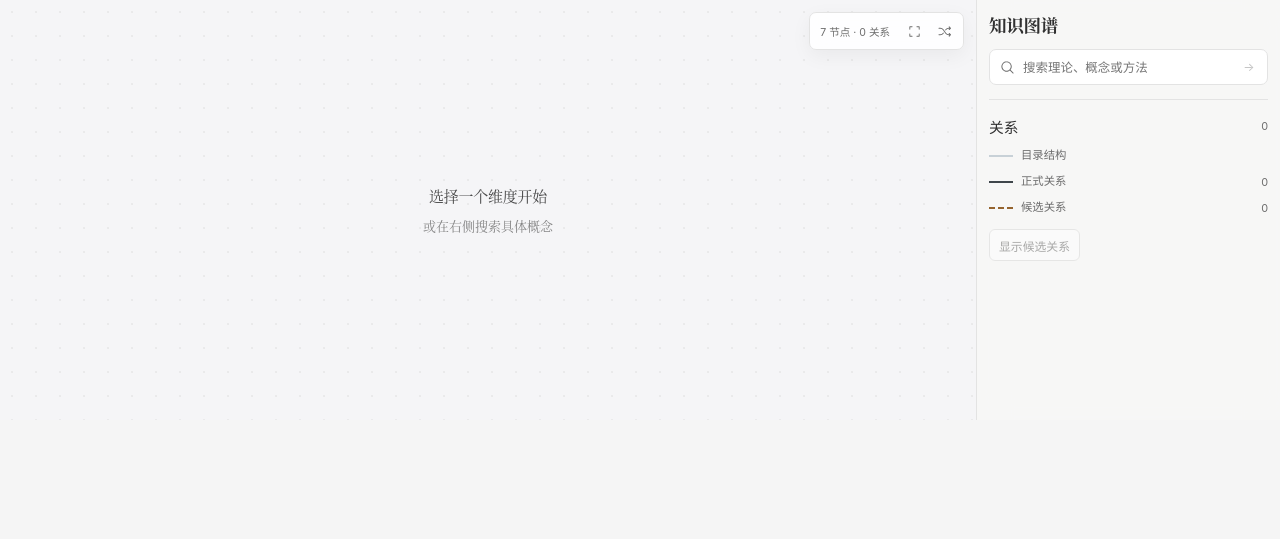
Test: ignores an older center response after the user selects another result
In the search field named "搜索真实条目": (1126, 67) [1023,60,1229,74], type "社会"
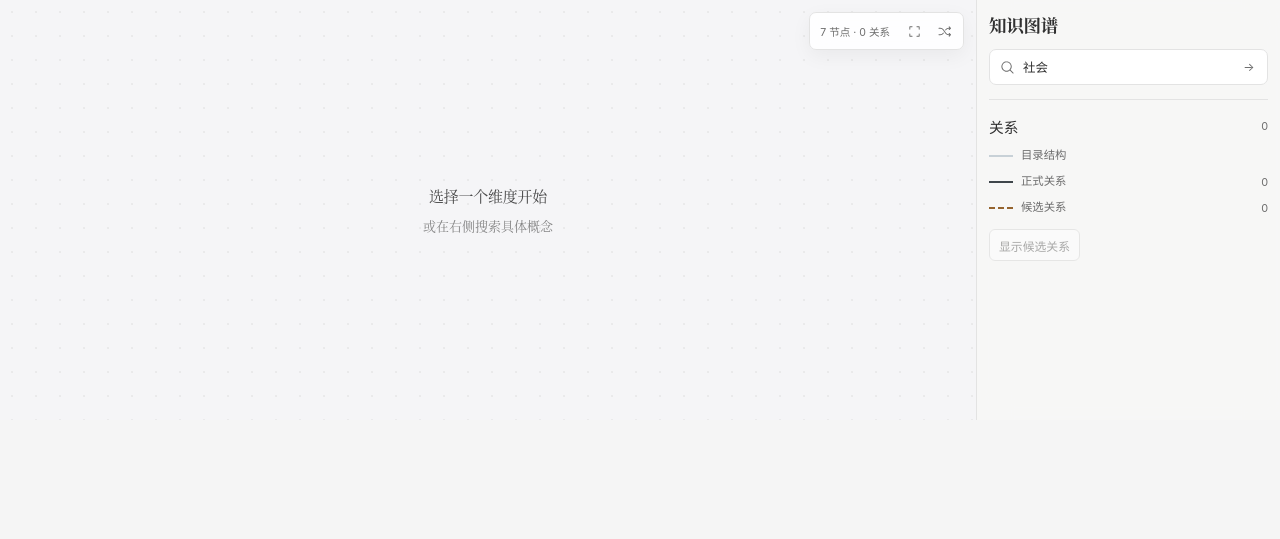
Click the button named "搜索": (1249, 67) [1236,54,1262,80]
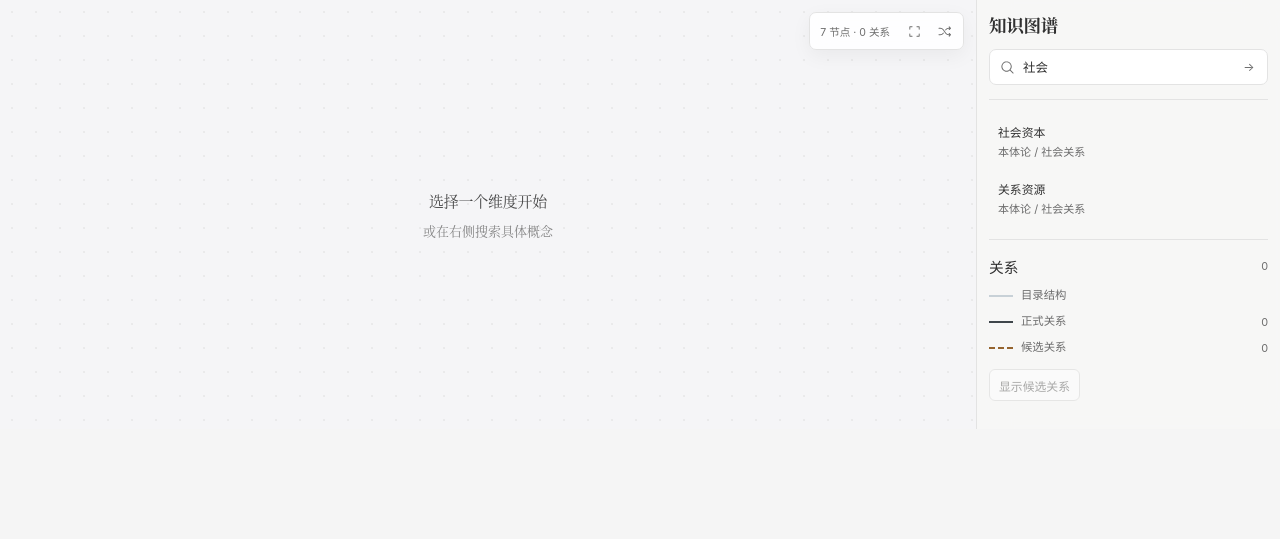
Click the button "社会资本 本体论 / 社会关系": (1022, 133) [989,114,1268,168]
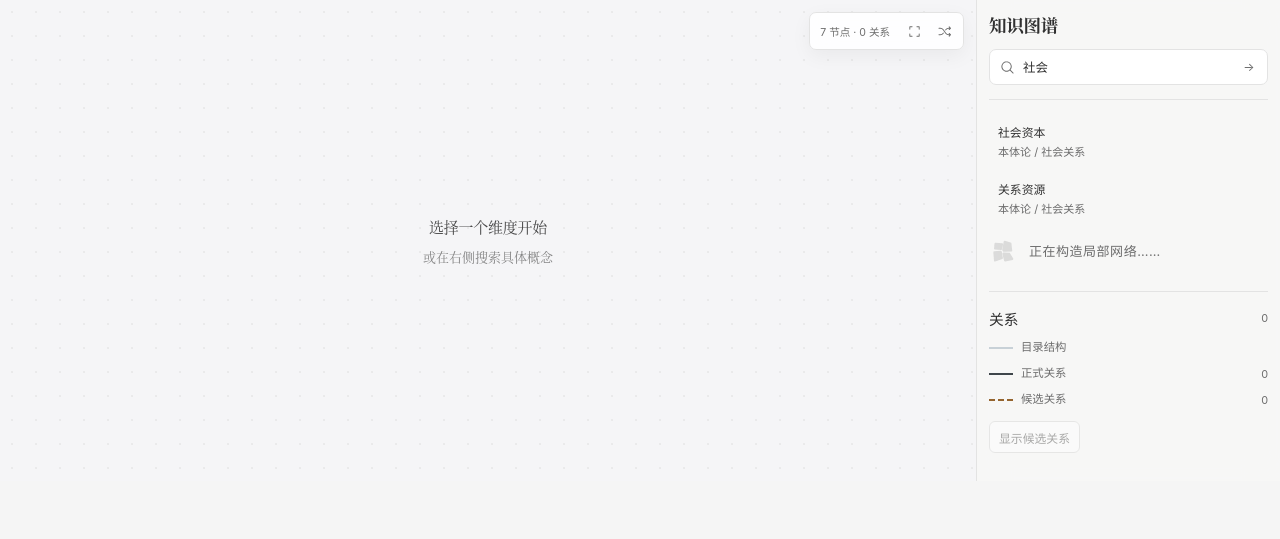
Click the button "关系资源 本体论 / 社会关系": (1022, 190) [989,171,1268,225]
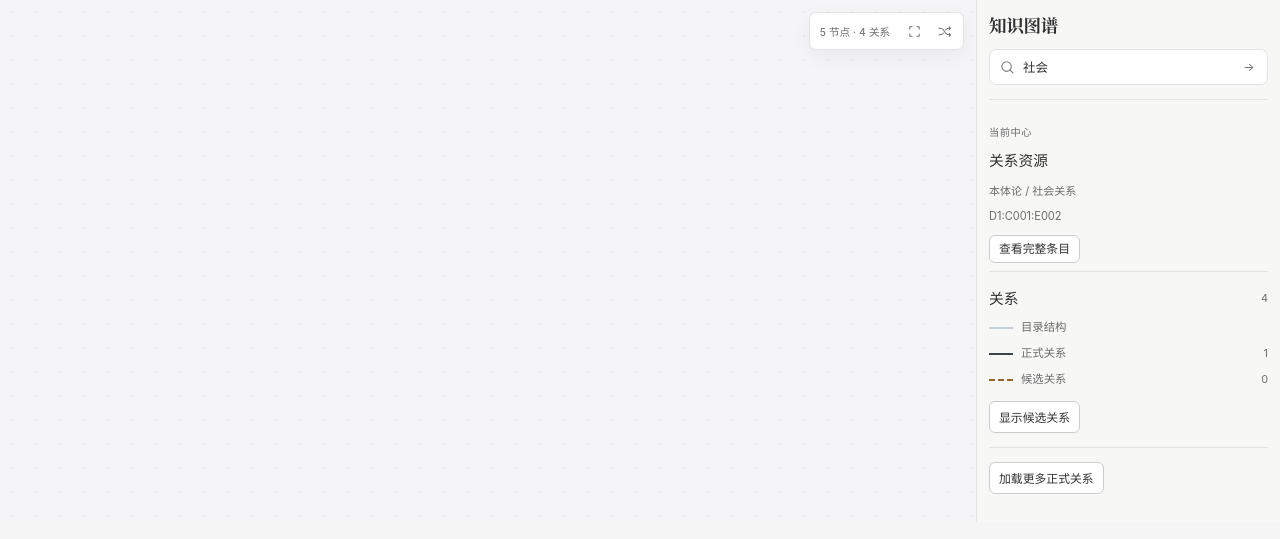
Result: the heading "关系资源" is shown at [989,152,1048,170]
Result: the text "D1:C001:E002" is shown at [989,208,1062,222]
